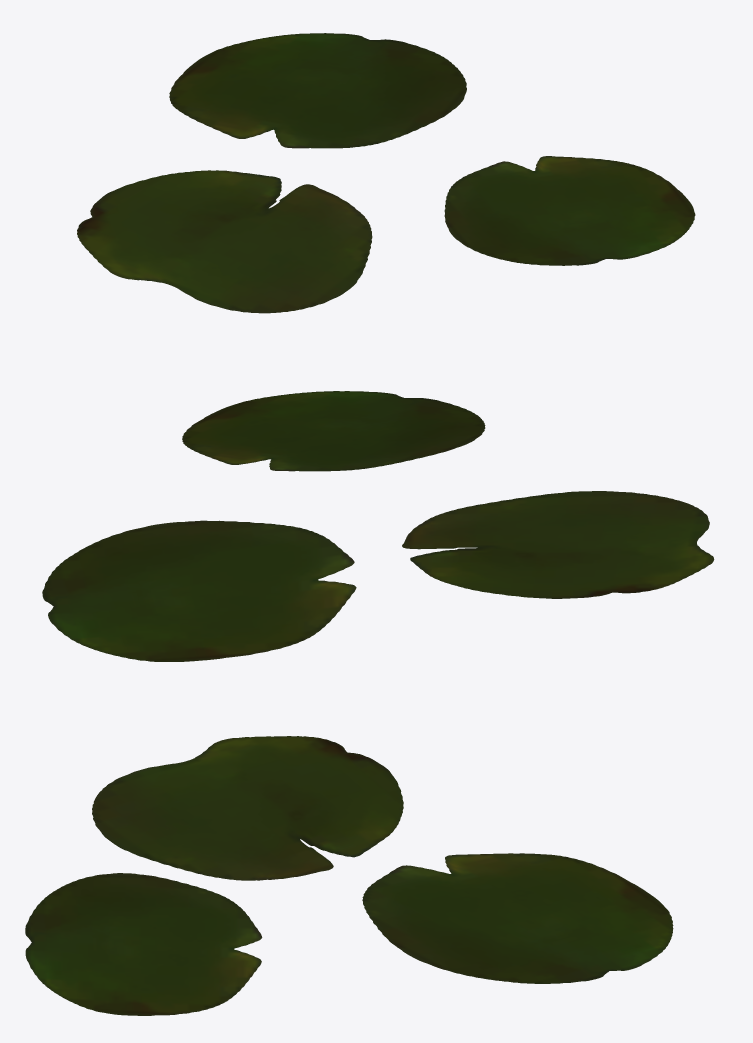
The picture shows the model from 3 angles, top to bottom: view 1: azimuth 30°, elevation 25°; view 2: azimuth 150°, elevation 25°; view 3: azimuth 270°, elevation 25°; orthographic projection. The views are drawn at different scales.
Visible parts, largest first — view 1: grass_water_leaves_b-0-swamp_plants; view 2: grass_water_leaves_b-0-swamp_plants; view 3: grass_water_leaves_b-0-swamp_plants.
Boxes of the visible parts, x1,y1,x2,y2 form: grass_water_leaves_b-0-swamp_plants: [77, 33, 695, 313]; grass_water_leaves_b-0-swamp_plants: [42, 391, 714, 661]; grass_water_leaves_b-0-swamp_plants: [25, 736, 673, 1015].
Size of the model in its own units: 1.5 by 0.086 by 1.54.
1 material, 1 textured.
